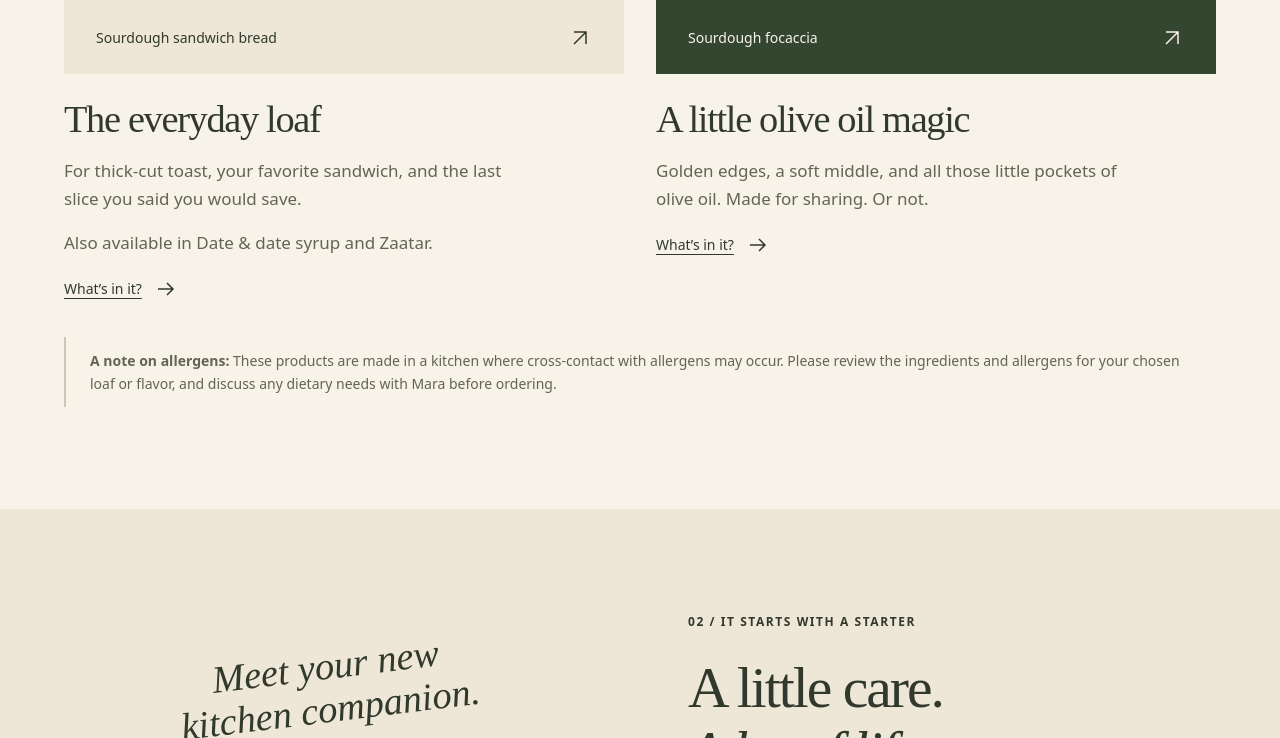
Test: product drilldown shows supplied base ingredients, flavors, and allergens
(page scrolled)
Click the link "What’s in it?" below "Also available in" at (121, 289), box [64,277,178,301]
(page scrolled)
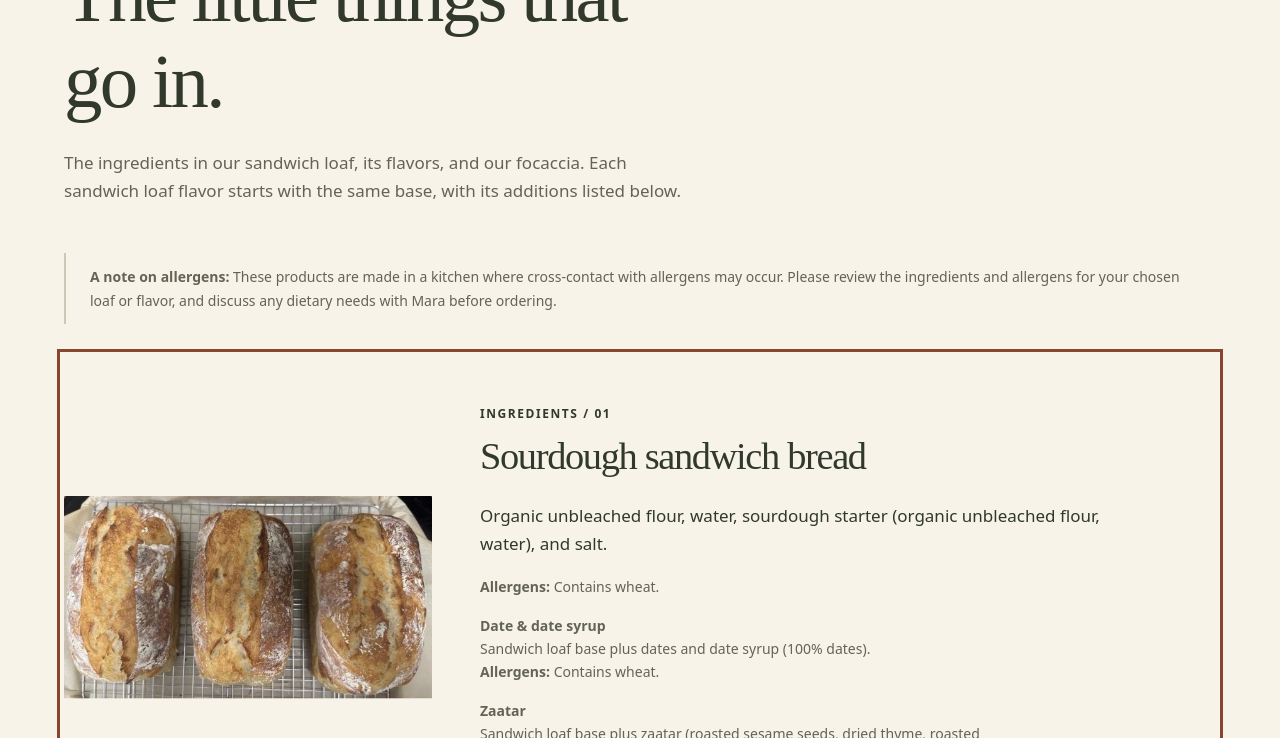
Result: the text "Organic unbleached flour, water, sourdough starter (organic unbleached flour, water), and salt." is shown at [480,504,1100,555]
Result: the text "Sandwich loaf base plus dates and date syrup (100% dates)." is shown at [480,639,870,658]
Result: the text "Allergens: Contains wheat." below "Date & date syrup" is shown at [554,662,659,681]
